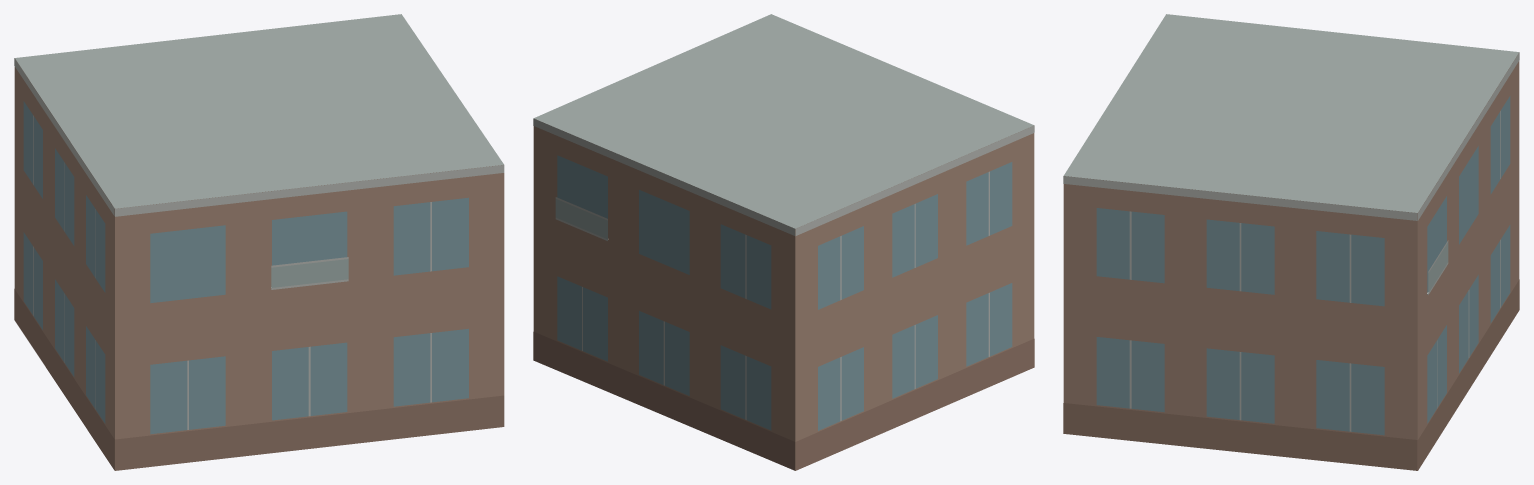
File: survey-upis-32917776.glb
The picture shows the model from 3 angles, left to right: view 1: azimuth 30°, elevation 25°; view 2: azimuth 150°, elevation 25°; view 3: azimuth 270°, elevation 25°; orthographic projection. The views are drawn at different scales.
Parts seen in each view (by area): view 1: survey-upis-32917776.tmp; view 2: survey-upis-32917776.tmp; view 3: survey-upis-32917776.tmp.
Boxes of the visible parts, box(x1,y1,x2,y2) form: survey-upis-32917776.tmp: box(14, 14, 504, 470); survey-upis-32917776.tmp: box(533, 14, 1034, 470); survey-upis-32917776.tmp: box(1063, 14, 1519, 470).
Size of the model in its own units: 13.09 by 7.9 by 12.67.
